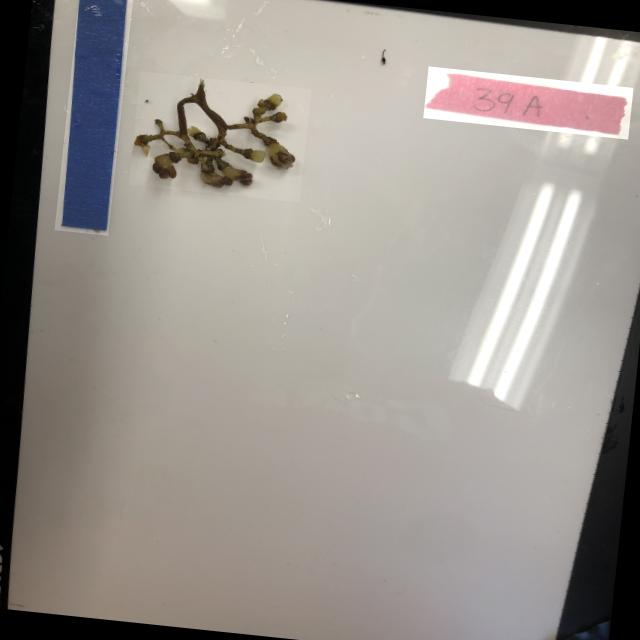index: (424, 66, 634, 139)
measure_label: (54, 0, 133, 235)
rachis_cluster: (128, 72, 312, 202)
